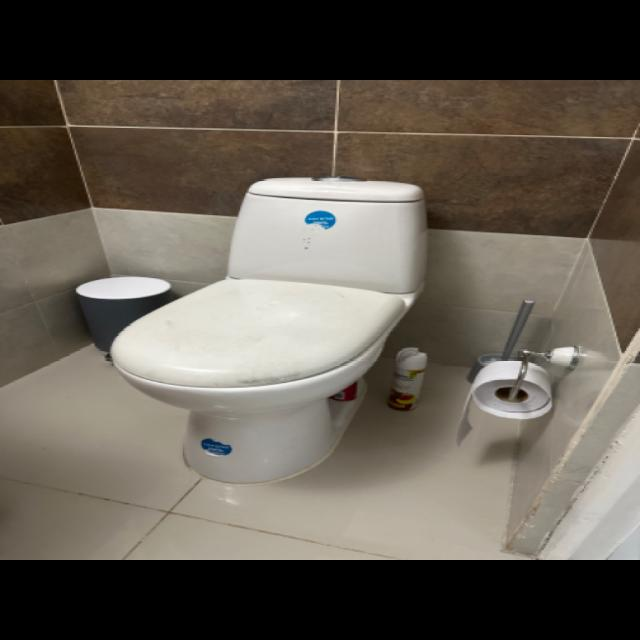toilet: (108, 172, 435, 488)
